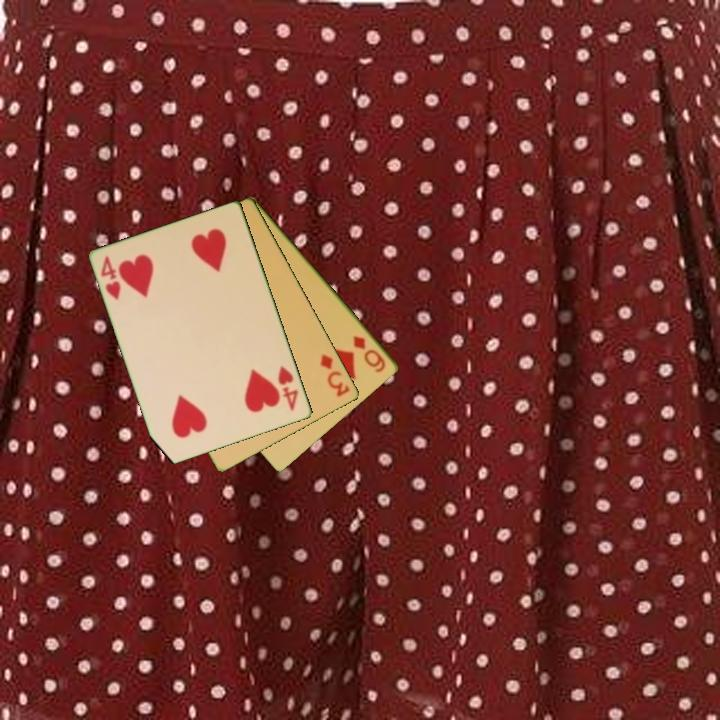3d: (317, 350, 353, 400)
4h: (275, 363, 301, 414), (98, 252, 124, 303)
6d: (350, 332, 389, 375)
